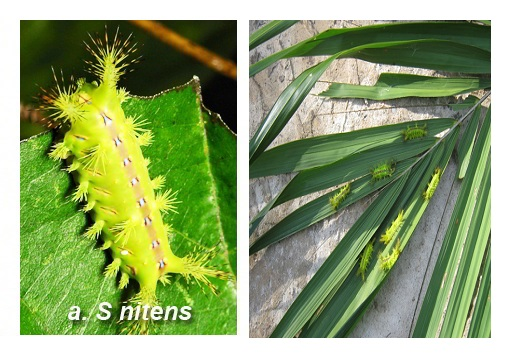Pest! (nettle_caterpillar): (23, 39, 224, 297)
